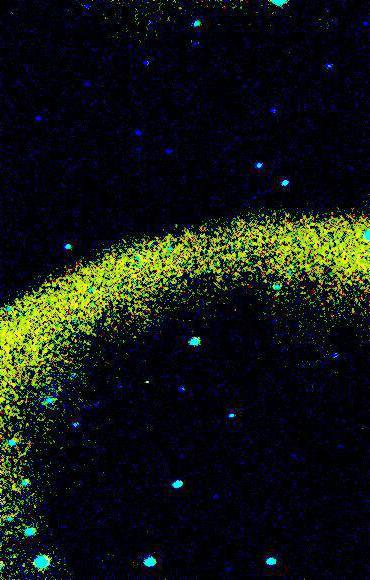star: (132, 364, 162, 394)
